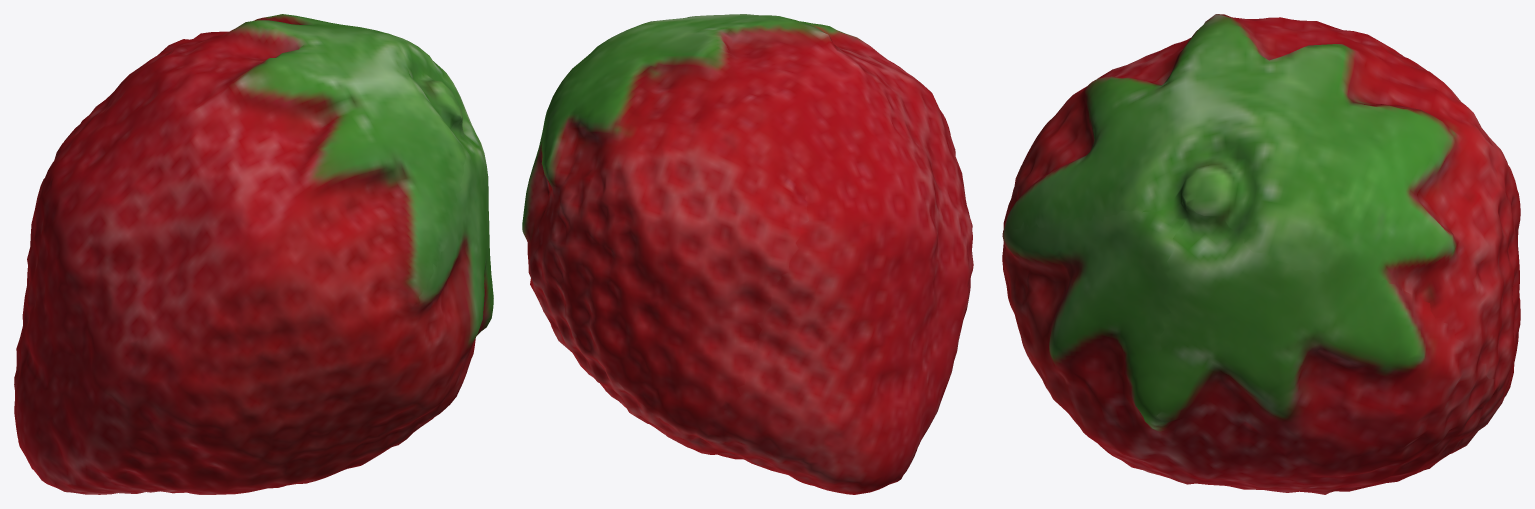
File: textured_simplified.obj
3 renders of one model, left to right at view 1: azimuth 30°, elevation 25°; view 2: azimuth 150°, elevation 25°; view 3: azimuth 270°, elevation 25°, orthographic. The views are drawn at different scales.
Size of the model in its own units: 0.0452 by 0.0453 by 0.0456.
1 material, 1 textured.
